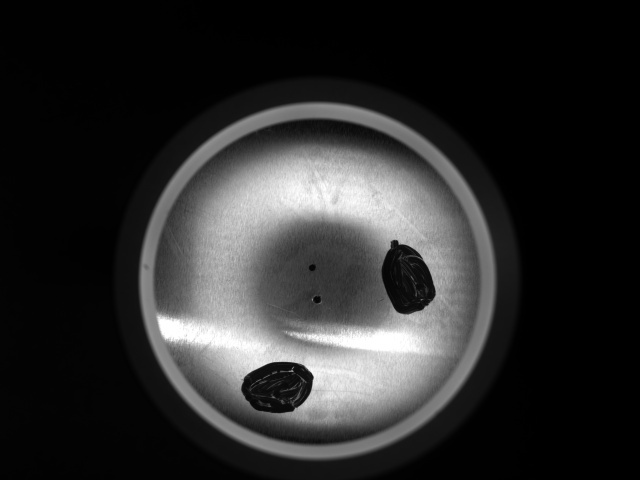zang_wu: (380, 237, 437, 316), (241, 358, 316, 416)
zhen_kong: (308, 293, 324, 306), (306, 262, 319, 274)
